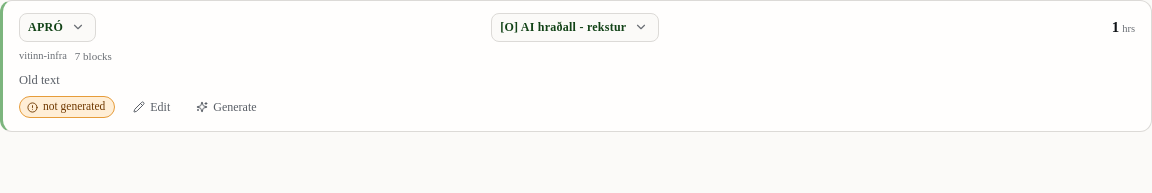
Test: BillingGroup line text (FR-26/FR-31/FR-33/FR-35) › Cancel discards the edit without saving
This screenshot has width=1152, height=193.
Click the button "Edit" at point(152, 107), box left=123, top=95, right=180, bottom=119
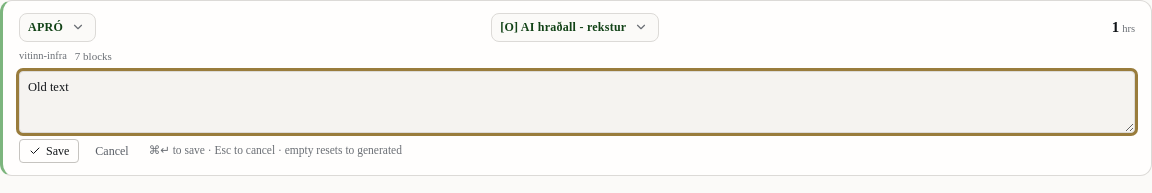
Replace the text in the text box named "Edit invoice text for vitinn-infra" with "Discarded" at point(577, 102), box left=19, top=71, right=1135, bottom=133
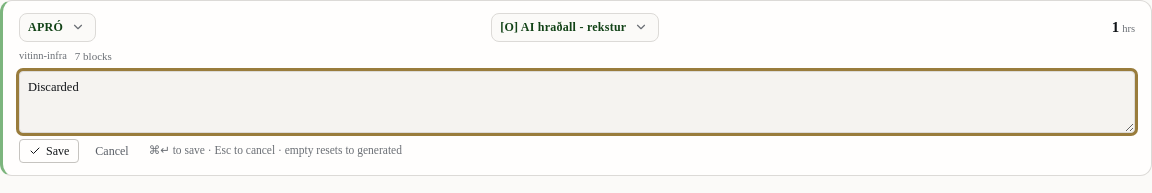
Click the button "Cancel" at point(112, 151), box left=85, top=139, right=139, bottom=163
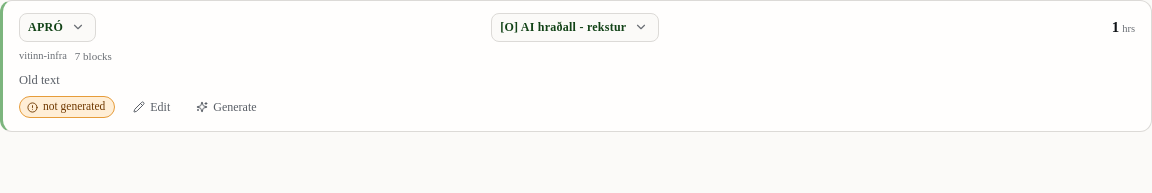
Check: the text "Old text" is shown, box left=19, top=73, right=60, bottom=87
